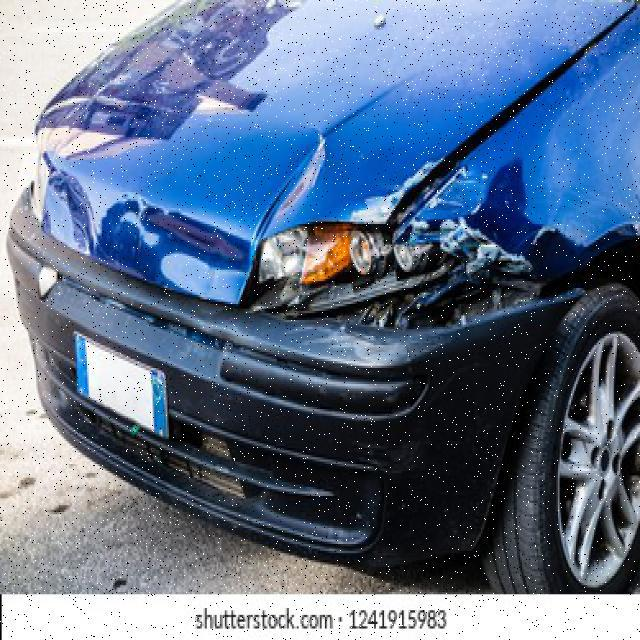Headlight-Damage: (253, 222, 468, 338)
bonnet-dent: (40, 0, 414, 308)
fender-dent: (427, 135, 638, 366)
